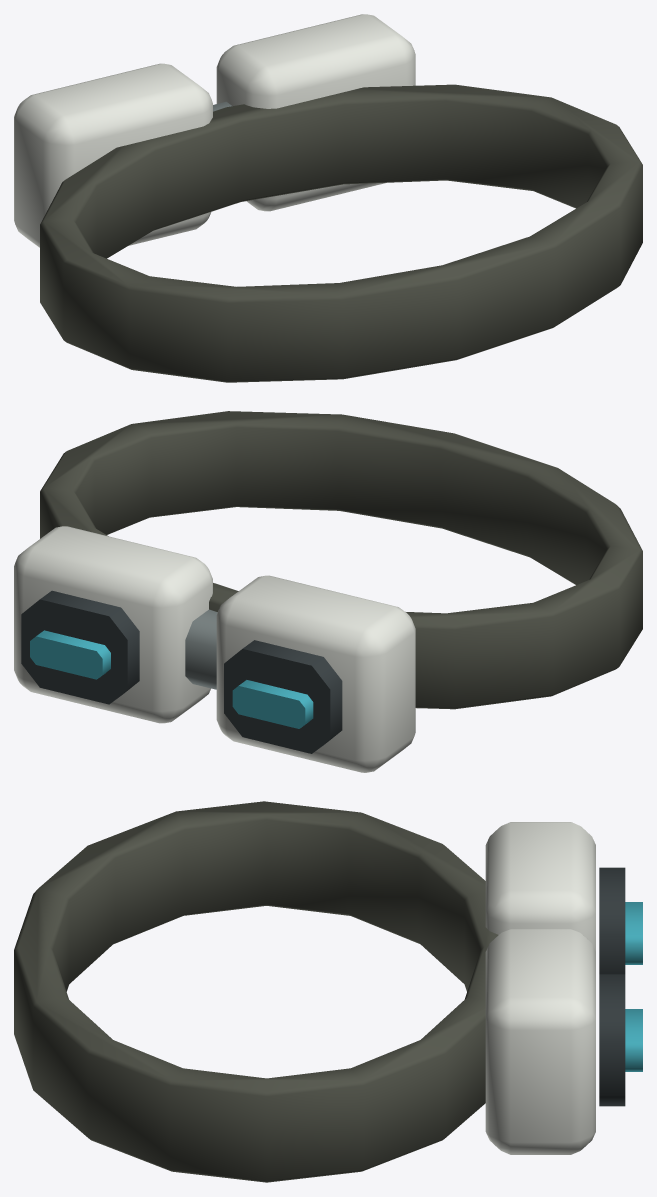
Rendered from person_belt_shield.obj.
3 renders of one model, top to bottom at view 1: azimuth 30°, elevation 25°; view 2: azimuth 150°, elevation 25°; view 3: azimuth 270°, elevation 25°, orthographic. The views are drawn at different scales.
Visible parts, largest first — view 1: source_part_00, source_part_01, source_part_04; view 2: source_part_00, source_part_01, source_part_04, source_part_02, source_part_05, source_part_03, source_part_06, source_part_07; view 3: source_part_00, source_part_04, source_part_01, source_part_05, source_part_02, source_part_03, source_part_06.
Part boxes in pixels (box(x1,y1,x2,y2)): source_part_00: box(40, 84, 642, 382); source_part_01: box(14, 63, 212, 247); source_part_04: box(216, 14, 415, 211); source_part_00: box(40, 411, 642, 709); source_part_01: box(216, 575, 415, 772); source_part_04: box(14, 526, 212, 723); source_part_02: box(224, 640, 342, 753); source_part_05: box(21, 590, 139, 704); source_part_03: box(232, 680, 313, 728); source_part_06: box(30, 630, 110, 679); source_part_07: box(185, 609, 217, 689); source_part_00: box(14, 801, 498, 1182); source_part_04: box(485, 929, 595, 1154); source_part_01: box(485, 822, 595, 951); source_part_05: box(599, 974, 625, 1106); source_part_02: box(599, 867, 625, 974); source_part_03: box(625, 902, 642, 964); source_part_06: box(625, 1009, 642, 1071).
Bounding box in the file's own units: 0.428 × 0.107 × 0.388.
